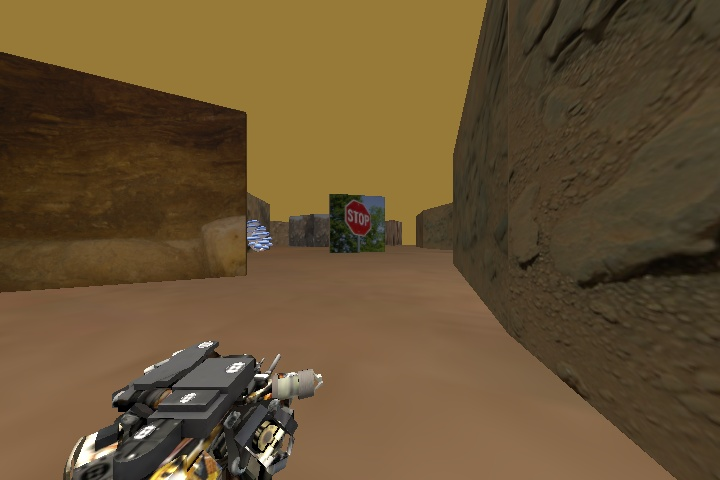mushroom: (245, 217, 274, 252)
sign: (345, 199, 373, 237)
